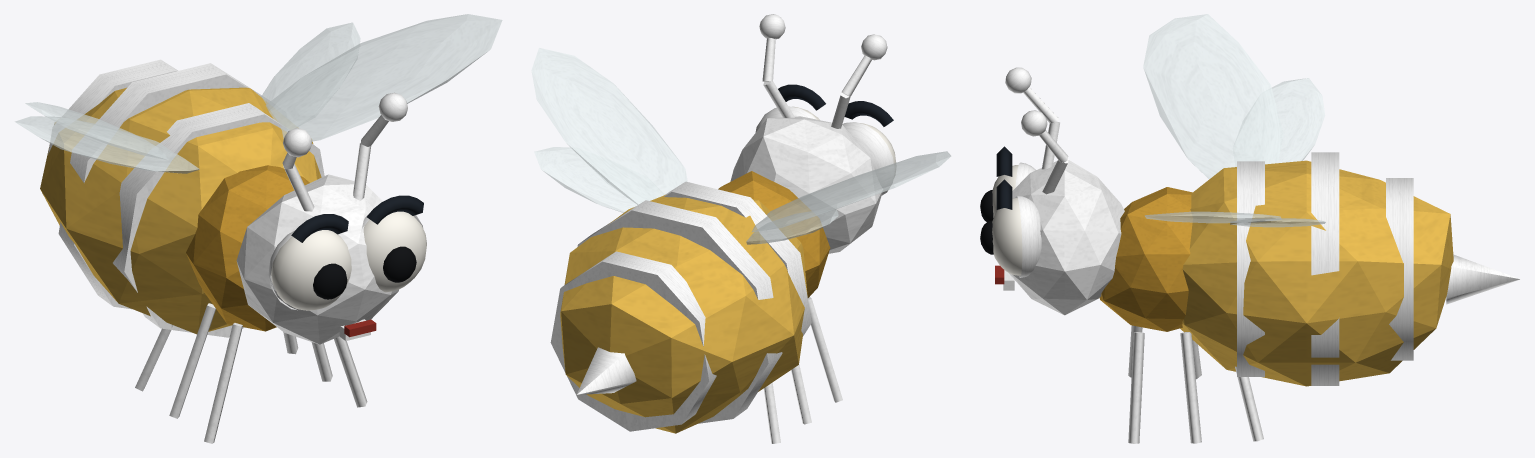
Rendered from bee.glb.
3 views of the same model, side by side, from view 1: azimuth 30°, elevation 25°; view 2: azimuth 150°, elevation 25°; view 3: azimuth 270°, elevation 25° (orthographic). The views are drawn at different scales.
Parts seen in each view (by area): view 1: body, head, wingL, wingR, antTipL, antTipR, antL, antR; view 2: body, wingL, head, wingR, antTipL, antTipR, antL; view 3: body, wingR, head, wingL, antTipR, antTipL.
Boxes of the visible parts, box(x1,y1,x2,y2) form: body: box(40, 59, 367, 443); head: box(236, 174, 426, 344); wingL: box(261, 14, 502, 141); wingR: box(14, 102, 199, 173); antTipL: box(360, 92, 407, 146); antTipR: box(282, 128, 311, 169); antL: box(353, 143, 371, 200); antR: box(283, 163, 314, 211); body: box(550, 171, 842, 443); wingL: box(531, 48, 687, 212); head: box(730, 84, 896, 253); wingR: box(746, 151, 951, 244); antTipL: box(759, 14, 785, 81); antTipR: box(841, 34, 887, 97); antL: box(763, 80, 794, 117); body: box(1099, 152, 1520, 443); wingR: box(1143, 14, 1325, 179); head: box(980, 146, 1124, 315); wingL: box(1144, 211, 1325, 227); antTipR: box(1005, 67, 1058, 123); antTipL: box(1021, 110, 1068, 163).
Bounding box in the file's own units: 0.5211 × 0.3826 × 0.5809.
Materials: 15 (12 with a texture image).
